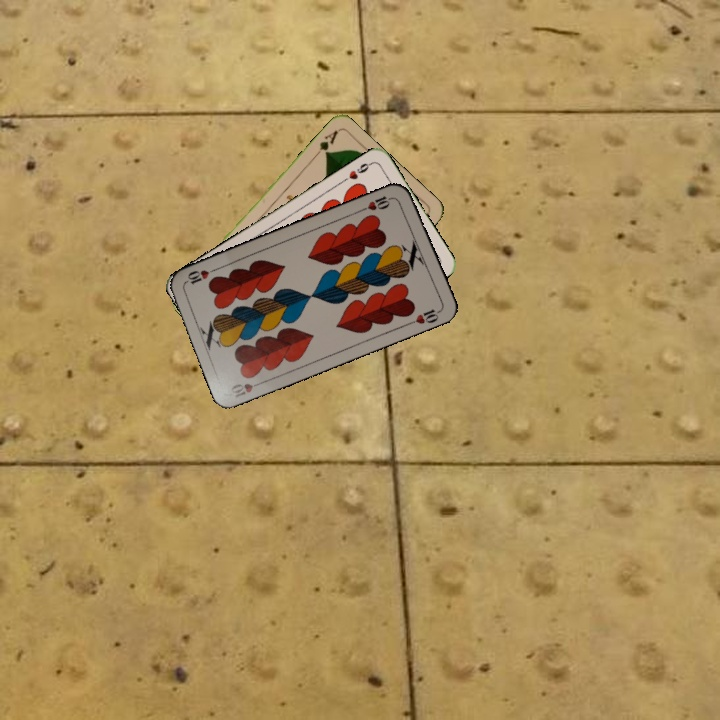GA: (310, 126, 341, 160)
H10: (227, 377, 267, 402), (357, 192, 397, 213)
H9: (338, 158, 375, 185)
